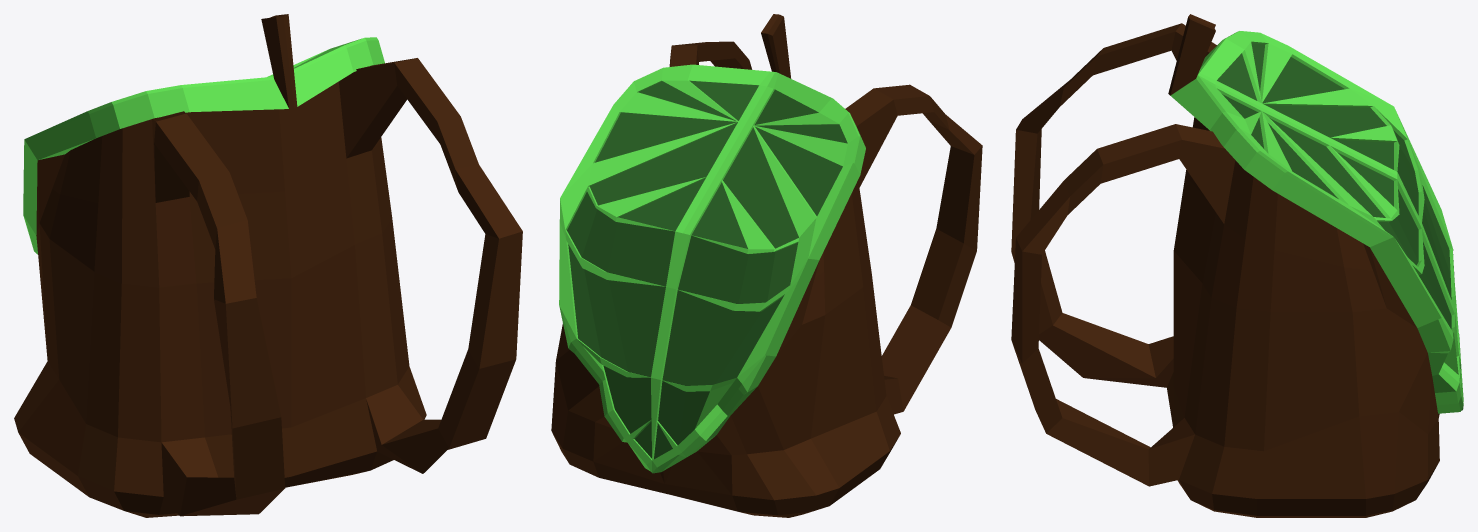
The model's file is BackPack.fbx.
The picture shows the model from 3 angles, left to right: view 1: azimuth 30°, elevation 25°; view 2: azimuth 150°, elevation 25°; view 3: azimuth 270°, elevation 25°; orthographic projection. The views are drawn at different scales.
Visible parts, largest first — view 1: Backpack; view 2: Backpack; view 3: Backpack.
Part boxes in pixels (box(x1,y1,x2,y2)): Backpack: box(14, 14, 522, 517); Backpack: box(551, 14, 982, 517); Backpack: box(1011, 14, 1463, 517).
Size of the model in its own units: 36.18 by 50.94 by 46.25.
